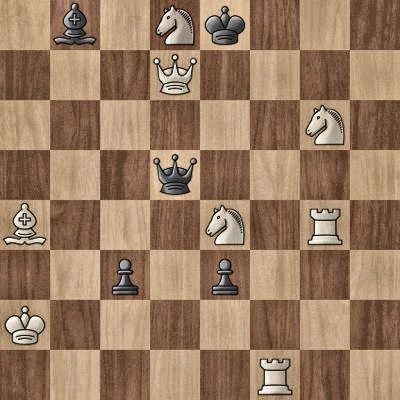black-bishop: (50, 0, 100, 50)
black-king: (200, 0, 250, 50)
black-pawn: (100, 250, 150, 300), (200, 250, 250, 300)
black-queen: (150, 150, 200, 200)
white-bishop: (0, 200, 50, 250)
white-king: (0, 300, 50, 350)
white-knight: (150, 0, 200, 50), (300, 100, 350, 150), (200, 200, 250, 250)
white-queen: (150, 50, 200, 100)
white-rook: (300, 200, 350, 250), (250, 350, 300, 400)
